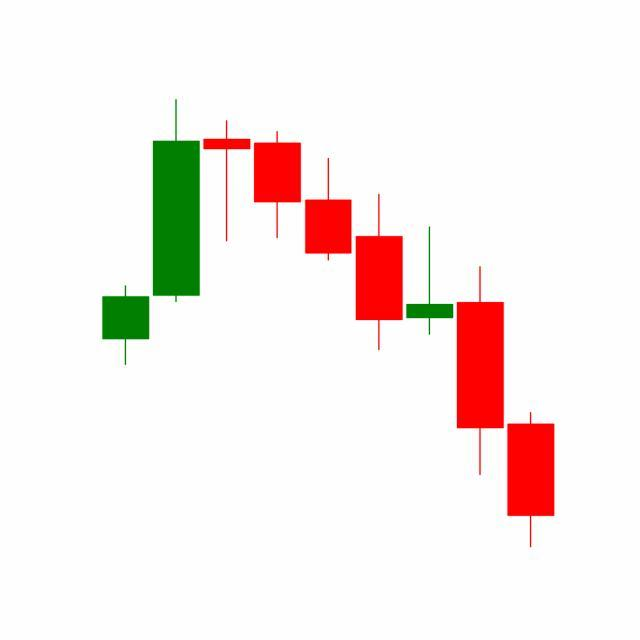Hikkake Pattern: (252, 129, 506, 481)
